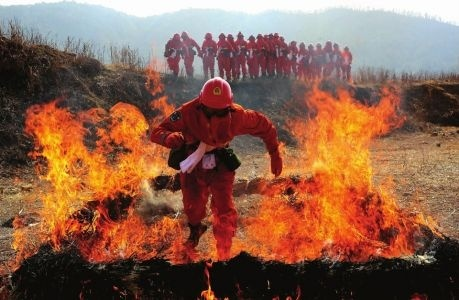fire: (231, 72, 440, 259), (12, 94, 187, 266)
